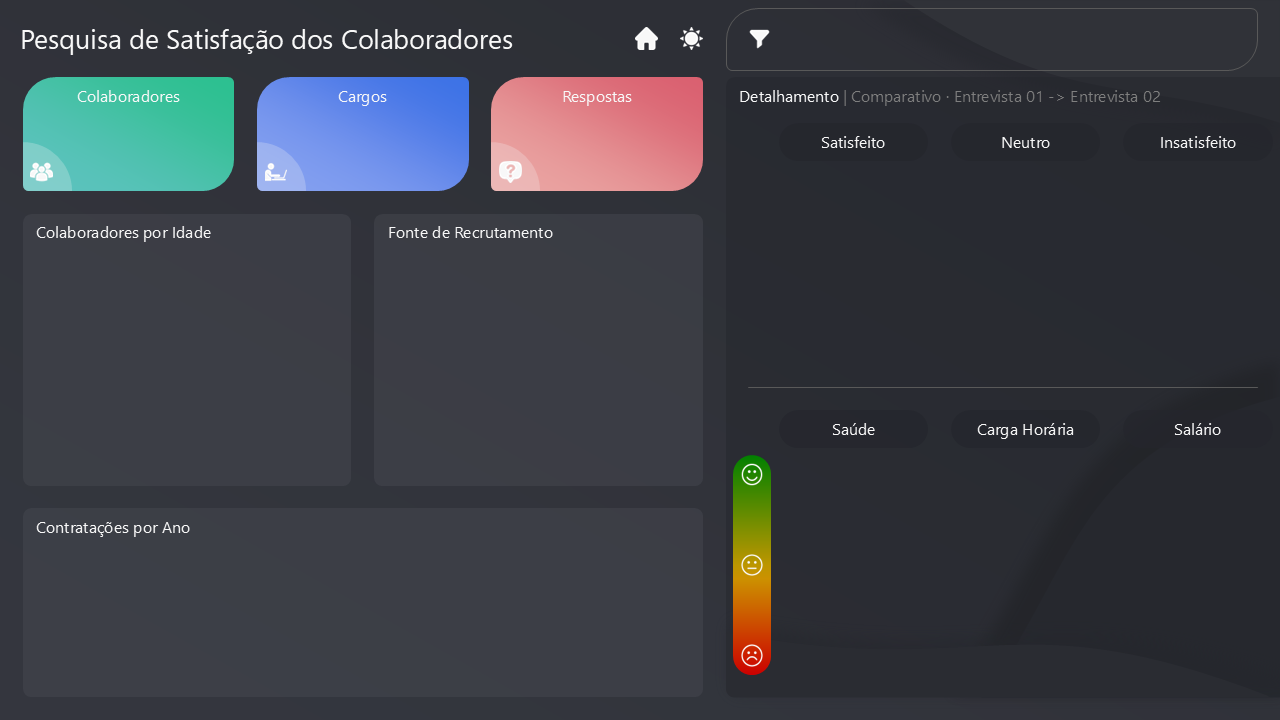

The page's visual inventory and layout, read from the dashboard file:
{"tool":"powerbi","page":{"name":"Capa Dark","canvas":[1280,720],"ordinal":0},"visuals":[{"type":"card","title":"Colaboradores","fields":{"Values":["bd_integrantes.qtde_funcionários"]},"box":[110,544,210,116.2],"z":0},{"type":"card","title":"Cargos","fields":{"Values":["bd_integrantes.qtde_cargos"]},"box":[110,360,210,116.2],"z":1000},{"type":"actionButton","box":[724.4,518,238,64.5],"z":2000},{"type":"actionButton","box":[1214,654.3,40,40],"z":3000}]}

Visuals, with their boxes in screenshot pixels (x1, y1, x2, y2), scaled from the page's 1280x720 canvas onto the 1280x720 screenshot:
"Colaboradores" card: {"x1": 110, "y1": 544, "x2": 320, "y2": 660}
"Cargos" card: {"x1": 110, "y1": 360, "x2": 320, "y2": 476}
actionButton: {"x1": 724, "y1": 518, "x2": 962, "y2": 582}
actionButton: {"x1": 1214, "y1": 654, "x2": 1254, "y2": 694}
